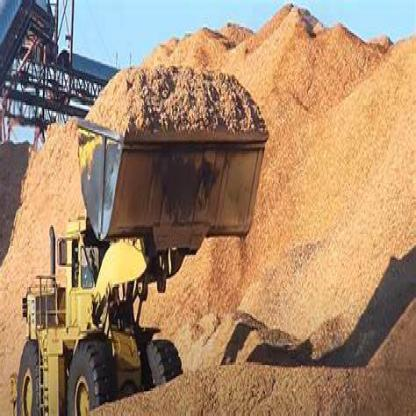bull_dozer/loader/grader: (5, 48, 268, 412)
